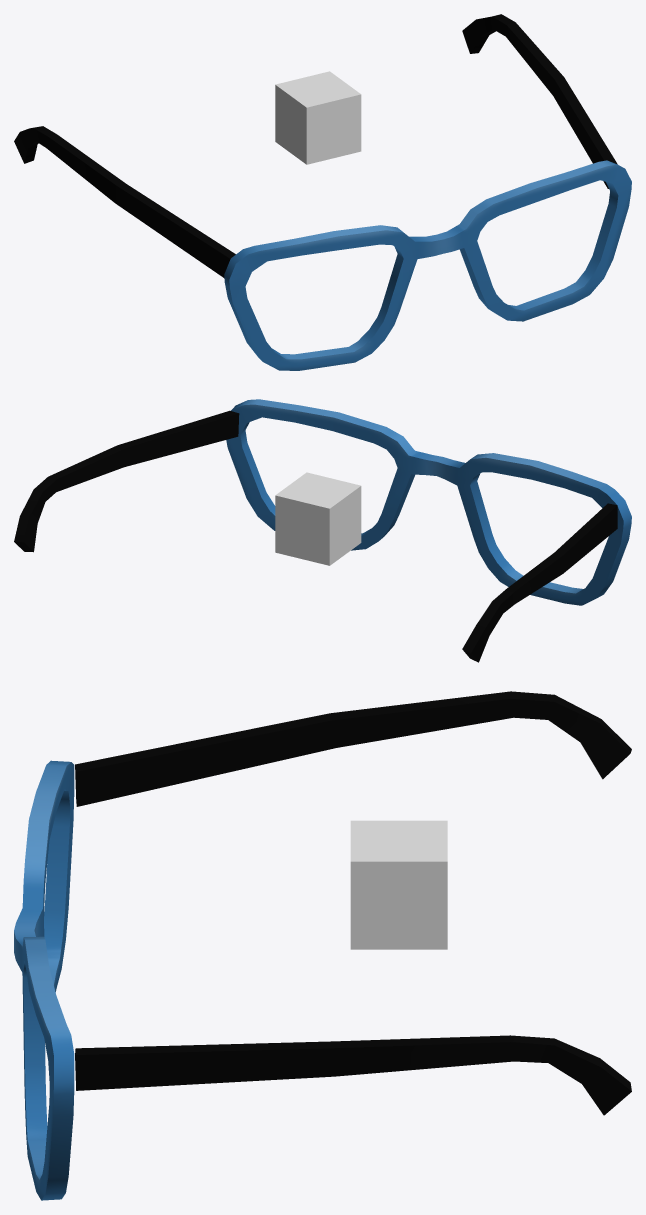
File: girl_glasses7.FBX
3 views of the same model, one above another, from view 1: azimuth 30°, elevation 25°; view 2: azimuth 150°, elevation 25°; view 3: azimuth 270°, elevation 25° (orthographic). The views are drawn at different scales.
Parts seen in each view (by area): view 1: girl_glasses020, faceSpawn; view 2: girl_glasses020, faceSpawn; view 3: girl_glasses020, faceSpawn.
Part boxes in pixels (x1,y1,x2,y2): girl_glasses020: (14,14,631,370); faceSpawn: (275,71,361,164); girl_glasses020: (14,399,631,662); faceSpawn: (275,472,361,565); girl_glasses020: (14,691,631,1200); faceSpawn: (350,820,447,949).
Bounding box in the file's own units: 42.88 × 14.36 × 31.89.
